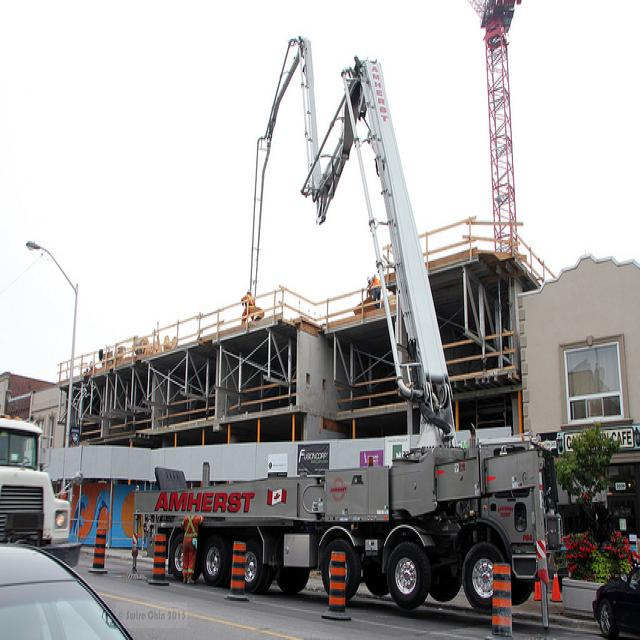Vehicle: (134, 444, 562, 607), (0, 416, 83, 569), (0, 542, 131, 633), (591, 565, 639, 639)
